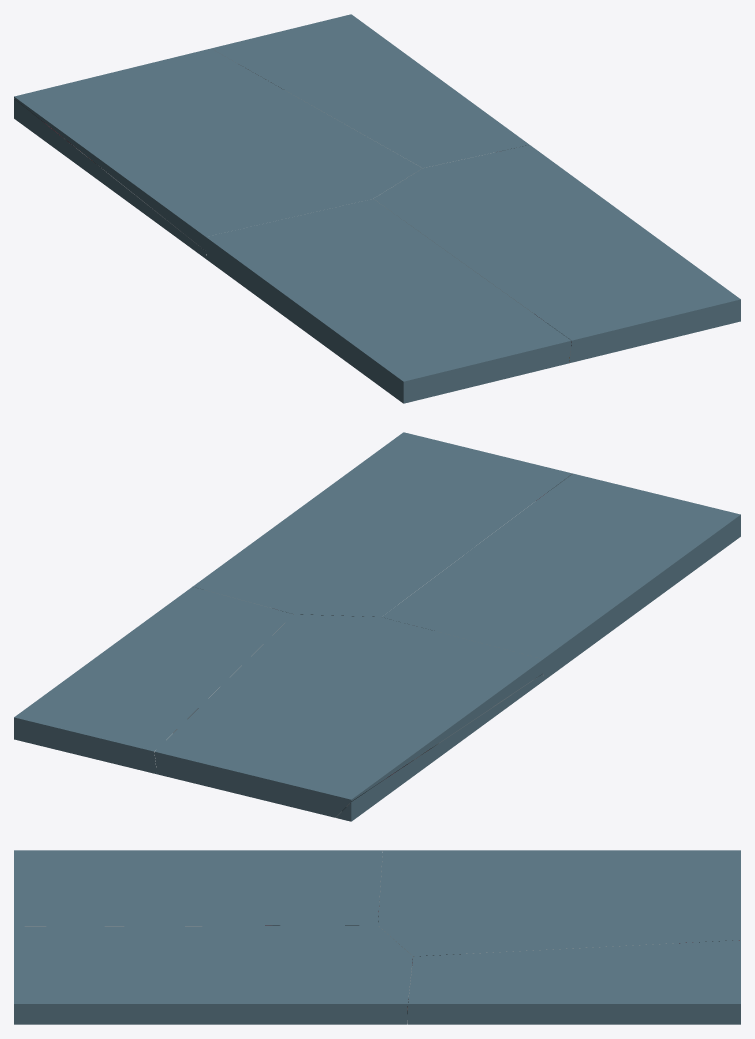
The model's file is Desk_DEST.fbx.
The picture shows the model from 3 angles, top to bottom: view 1: azimuth 30°, elevation 25°; view 2: azimuth 150°, elevation 25°; view 3: azimuth 270°, elevation 25°; orthographic projection. The views are drawn at different scales.
Visible parts, largest first — view 1: model:mesh1453542057_cell.004, model:mesh1453542057_cell.002, model:mesh1453542057_cell.003, model:mesh1453542057_cell.001, model:mesh1453542057_cell; view 2: model:mesh1453542057_cell.004, model:mesh1453542057_cell.002, model:mesh1453542057_cell.003, model:mesh1453542057_cell.001, model:mesh1453542057_cell; view 3: model:mesh1453542057_cell.003, model:mesh1453542057_cell.004, model:mesh1453542057_cell.002, model:mesh1453542057_cell.001.
Part boxes in pixels (x1,y1,x2,y2): model:mesh1453542057_cell.004: [14, 48, 422, 250]; model:mesh1453542057_cell.002: [206, 199, 571, 403]; model:mesh1453542057_cell.003: [373, 145, 740, 363]; model:mesh1453542057_cell.001: [211, 14, 529, 168]; model:mesh1453542057_cell: [14, 99, 206, 258]; model:mesh1453542057_cell.004: [154, 614, 543, 817]; model:mesh1453542057_cell.002: [381, 473, 740, 680]; model:mesh1453542057_cell.003: [192, 432, 572, 616]; model:mesh1453542057_cell.001: [14, 587, 293, 774]; model:mesh1453542057_cell: [336, 674, 543, 821]; model:mesh1453542057_cell.003: [14, 925, 412, 1024]; model:mesh1453542057_cell.004: [378, 850, 740, 956]; model:mesh1453542057_cell.002: [14, 850, 382, 926]; model:mesh1453542057_cell.001: [407, 940, 740, 1024].
Size of the model in its own units: 4.06 by 0.254 by 8.13.
